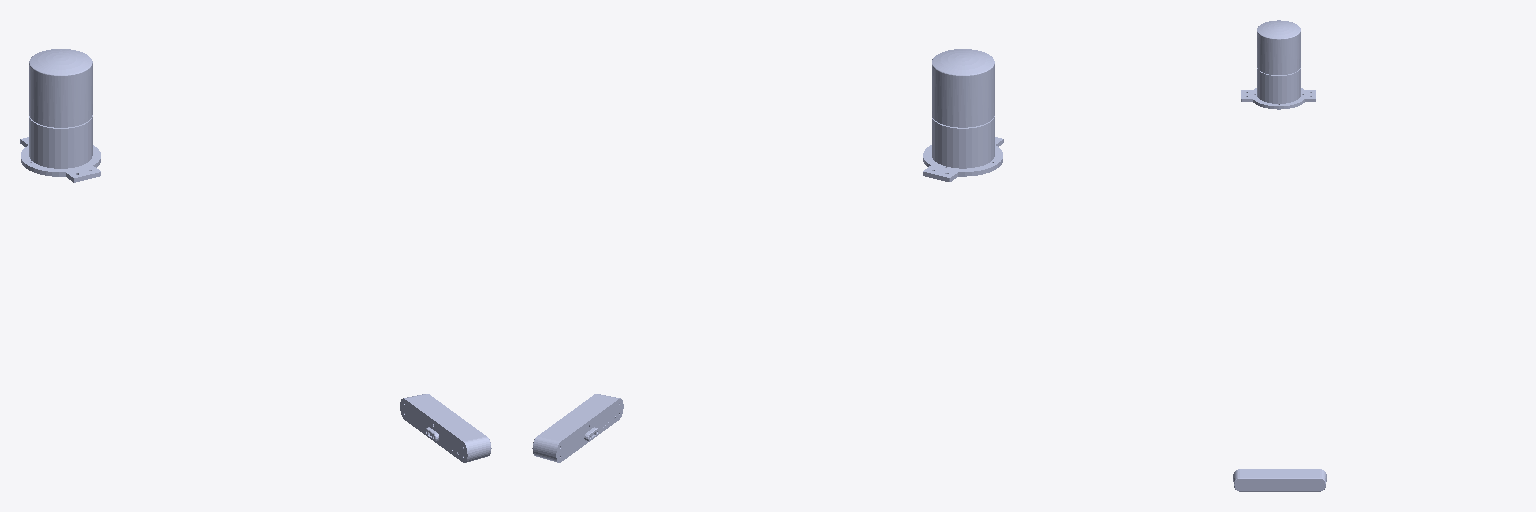
The robot description file, URDF, robot "SmartAgURDF3":
<?xml version="1.0" encoding="utf-8"?>
<!-- This URDF was automatically created by SolidWorks to URDF Exporter! Originally created by [author] ([email redacted]) 
     Commit Version: 1.6.0-4-g7f85cfe  Build Version: 1.6.7995.38578
     For more information, please see http://wiki.ros.org/sw_urdf_exporter -->
<robot
  name="SmartAgURDF3">
  <link
    name="base_link">
    <inertial>
      <origin
        xyz="-0.0238882656200986 0.0154445877081355 0.554773289159937"
        rpy="0 0 0" />
      <mass
        value="15.4816558685569" />
      <inertia
        ixx="0.264836141895999"
        ixy="-1.42975854181921E-07"
        ixz="0.00533224131033489"
        iyy="0.291787044977069"
        iyz="3.15250338675934E-06"
        izz="0.36130190123182" />
    </inertial>
    <visual>
      <origin
        xyz="0 0 0"
        rpy="0 0 0" />
      <geometry>
        <mesh
          filename="package://SmartAgURDF3/meshes/base_link.STL" />
      </geometry>
      <material
        name="">
        <color
          rgba="0.898039215686275 0.92156862745098 0.929411764705882 1" />
      </material>
    </visual>
    <collision>
      <origin
        xyz="0 0 0"
        rpy="0 0 0" />
      <geometry>
        <mesh
          filename="package://SmartAgURDF3/meshes/base_link.STL" />
      </geometry>
    </collision>
  </link>
  <link
    name="fl_link">
    <inertial>
      <origin
        xyz="-0.273972031164338 -0.268075571586984 0.515315810599791"
        rpy="0 0 0" />
      <mass
        value="16.1455458289053" />
      <inertia
        ixx="2.38468631507816"
        ixy="-0.0390199614608443"
        ixz="0.601945473504338"
        iyy="2.58581078560861"
        iyz="0.024029151203794"
        izz="0.969341226522281" />
    </inertial>
    <visual>
      <origin
        xyz="0 0 0"
        rpy="0 0 0" />
      <geometry>
        <mesh
          filename="package://SmartAgURDF3/meshes/fl_link.STL" />
      </geometry>
      <material
        name="">
        <color
          rgba="0.792156862745098 0.819607843137255 0.933333333333333 1" />
      </material>
    </visual>
    <collision>
      <origin
        xyz="0 0 0"
        rpy="0 0 0" />
      <geometry>
        <mesh
          filename="package://SmartAgURDF3/meshes/fl_link.STL" />
      </geometry>
    </collision>
  </link>
  <joint
    name="fl_joint"
    type="revolute">
    <origin
      xyz="0.256 0.28547 0.036"
      rpy="0 0 0" />
    <parent
      link="base_link" />
    <child
      link="fl_link" />
    <axis
      xyz="0 1 0" />
    <limit
      lower="0"
      upper="0"
      effort="1000"
      velocity="0" />
  </joint>
  <link
    name="fr_link">
    <inertial>
      <origin
        xyz="-0.273972031164337 0.302873678413016 0.515315810599791"
        rpy="0 0 0" />
      <mass
        value="16.1455458289053" />
      <inertia
        ixx="2.38468631507816"
        ixy="-0.0390199614608442"
        ixz="0.601945473504338"
        iyy="2.58581078560861"
        iyz="0.024029151203794"
        izz="0.969341226522281" />
    </inertial>
    <visual>
      <origin
        xyz="0 0 0"
        rpy="0 0 0" />
      <geometry>
        <mesh
          filename="package://SmartAgURDF3/meshes/fr_link.STL" />
      </geometry>
      <material
        name="">
        <color
          rgba="0.792156862745098 0.819607843137255 0.933333333333333 1" />
      </material>
    </visual>
    <collision>
      <origin
        xyz="0 0 0"
        rpy="0 0 0" />
      <geometry>
        <mesh
          filename="package://SmartAgURDF3/meshes/fr_link.STL" />
      </geometry>
    </collision>
  </link>
  <joint
    name="fr_joint"
    type="revolute">
    <origin
      xyz="0.256 -0.28548 0.036"
      rpy="0 0 0" />
    <parent
      link="base_link" />
    <child
      link="fr_link" />
    <axis
      xyz="0 -1 0" />
    <limit
      lower="0"
      upper="0"
      effort="1000"
      velocity="0" />
  </joint>
  <link
    name="bl_link">
    <inertial>
      <origin
        xyz="0.238027968835662 -0.268075571586984 0.515315810599791"
        rpy="0 0 0" />
      <mass
        value="16.1455458289053" />
      <inertia
        ixx="2.38468631507816"
        ixy="-0.0390199614608443"
        ixz="0.601945473504338"
        iyy="2.58581078560861"
        iyz="0.024029151203794"
        izz="0.969341226522281" />
    </inertial>
    <visual>
      <origin
        xyz="0 0 0"
        rpy="0 0 0" />
      <geometry>
        <mesh
          filename="package://SmartAgURDF3/meshes/bl_link.STL" />
      </geometry>
      <material
        name="">
        <color
          rgba="0.792156862745098 0.819607843137255 0.933333333333333 1" />
      </material>
    </visual>
    <collision>
      <origin
        xyz="0 0 0"
        rpy="0 0 0" />
      <geometry>
        <mesh
          filename="package://SmartAgURDF3/meshes/bl_link.STL" />
      </geometry>
    </collision>
  </link>
  <joint
    name="bl_joint"
    type="revolute">
    <origin
      xyz="-0.256 0.28547425 0.0359999999999999"
      rpy="0 0 0" />
    <parent
      link="base_link" />
    <child
      link="bl_link" />
    <axis
      xyz="0 1 0" />
    <limit
      lower="0"
      upper="0"
      effort="1000"
      velocity="0" />
  </joint>
  <link
    name="br_link">
    <inertial>
      <origin
        xyz="0.238027968835662 0.302873678413016 0.515315810599791"
        rpy="0 0 0" />
      <mass
        value="16.1455458289053" />
      <inertia
        ixx="2.38468631507816"
        ixy="-0.0390199614608443"
        ixz="0.601945473504338"
        iyy="2.58581078560861"
        iyz="0.024029151203794"
        izz="0.969341226522281" />
    </inertial>
    <visual>
      <origin
        xyz="0 0 0"
        rpy="0 0 0" />
      <geometry>
        <mesh
          filename="package://SmartAgURDF3/meshes/br_link.STL" />
      </geometry>
      <material
        name="">
        <color
          rgba="0.792156862745098 0.819607843137255 0.933333333333333 1" />
      </material>
    </visual>
    <collision>
      <origin
        xyz="0 0 0"
        rpy="0 0 0" />
      <geometry>
        <mesh
          filename="package://SmartAgURDF3/meshes/br_link.STL" />
      </geometry>
    </collision>
  </link>
  <joint
    name="br_joint"
    type="revolute">
    <origin
      xyz="-0.256 -0.28548 0.036"
      rpy="0 0 0" />
    <parent
      link="base_link" />
    <child
      link="br_link" />
    <axis
      xyz="0 -1 0" />
    <limit
      lower="0"
      upper="0"
      effort="1000"
      velocity="0" />
  </joint>
  <link
    name="zed_link">
    <inertial>
      <origin
        xyz="0.00449559140199729 9.15869661617663E-07 0.0149406940528696"
        rpy="0 0 0" />
      <mass
        value="0.167112564416853" />
      <inertia
        ixx="0.000382803450012708"
        ixy="3.2818919103949E-09"
        ixz="-6.45241842886212E-08"
        iyy="3.24671599397043E-05"
        iyz="1.38579031673688E-09"
        izz="0.000390509518012578" />
    </inertial>
    <visual>
      <origin
        xyz="0 0 0"
        rpy="0 0 0" />
      <geometry>
        <mesh
          filename="package://SmartAgURDF3/meshes/zed_link.STL" />
      </geometry>
      <material
        name="">
        <color
          rgba="0.792156862745098 0.819607843137255 0.933333333333333 1" />
      </material>
    </visual>
    <collision>
      <origin
        xyz="0 0 0"
        rpy="0 0 0" />
      <geometry>
        <mesh
          filename="package://SmartAgURDF3/meshes/zed_link.STL" />
      </geometry>
    </collision>
  </link>
  <joint
    name="zed_joint"
    type="fixed">
    <origin
      xyz="0.33638 0.002 0.314"
      rpy="0 0 0" />
    <parent
      link="base_link" />
    <child
      link="zed_link" />
    <axis
      xyz="0 0 0" />
  </joint>
  <link
    name="lidar_link">
    <inertial>
      <origin
        xyz="1.04083408558608E-17 0 -0.0272645393344298"
        rpy="0 0 0" />
      <mass
        value="0.722935561788397" />
      <inertia
        ixx="0.00143825056013111"
        ixy="1.01265001552392E-20"
        ixz="5.76382358667348E-19"
        iyy="0.00143825056013111"
        iyz="3.00983818548627E-19"
        izz="0.000610157686125548" />
    </inertial>
    <visual>
      <origin
        xyz="0 0 0"
        rpy="0 0 0" />
      <geometry>
        <mesh
          filename="package://SmartAgURDF3/meshes/lidar_link.STL" />
      </geometry>
      <material
        name="">
        <color
          rgba="0.792156862745098 0.819607843137255 0.933333333333333 1" />
      </material>
    </visual>
    <collision>
      <origin
        xyz="0 0 0"
        rpy="0 0 0" />
      <geometry>
        <mesh
          filename="package://SmartAgURDF3/meshes/lidar_link.STL" />
      </geometry>
    </collision>
  </link>
  <joint
    name="lidar_joint"
    type="fixed">
    <origin
      xyz="-0.2365 0 0.95016"
      rpy="0 0 0" />
    <parent
      link="base_link" />
    <child
      link="lidar_link" />
    <axis
      xyz="0 0 0" />
  </joint>
</robot>

--- Facts derived from the render (not from the file) ---
Views: 3 orthographic renders of the robot side by side, from view 1: azimuth 30°, elevation 25°; view 2: azimuth 150°, elevation 25°; view 3: azimuth 270°, elevation 25°.
Robot: SmartAgURDF3 — 7 links, 6 joints (4 revolute, 2 fixed); root link base_link; default pose: every joint at zero.
Visible links, largest first — view 1: lidar_link, zed_link; view 2: lidar_link, zed_link; view 3: lidar_link, zed_link.
Link boxes in pixels (<box>): lidar_link: <box>20,49,100,182</box>; zed_link: <box>400,394,491,462</box>; lidar_link: <box>923,49,1003,181</box>; zed_link: <box>532,394,623,462</box>; lidar_link: <box>1241,20,1315,109</box>; zed_link: <box>1233,469,1326,491</box>.
Bounding box of the posed robot: 0.6493 × 0.1752 × 0.6802 m (x, y, z).
2 mesh visuals loaded from 7 distinct referenced files (2 binary STL); not drawn: 5 (reference not matched to a file when rendering).